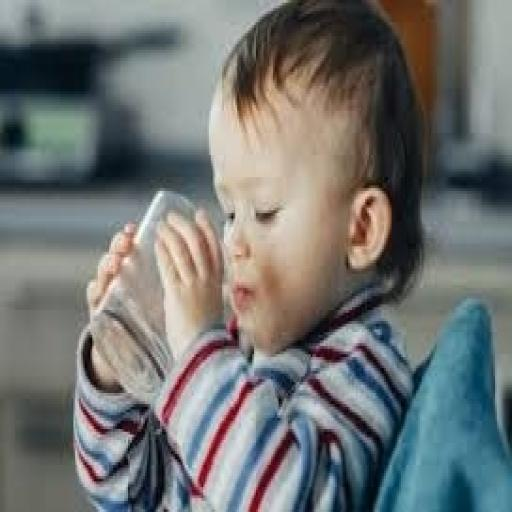drinking: (88, 52, 473, 461)
